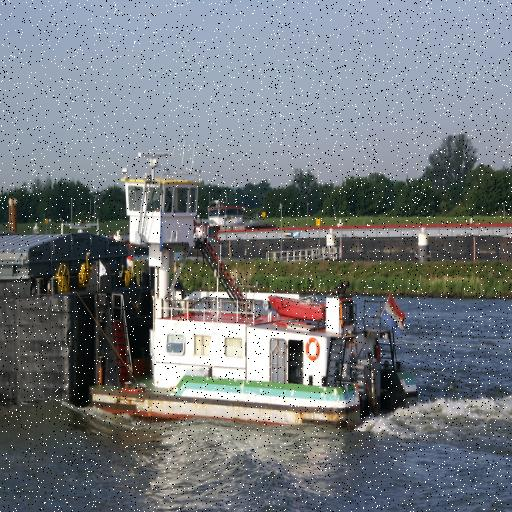tugboat: (72, 138, 424, 436)
